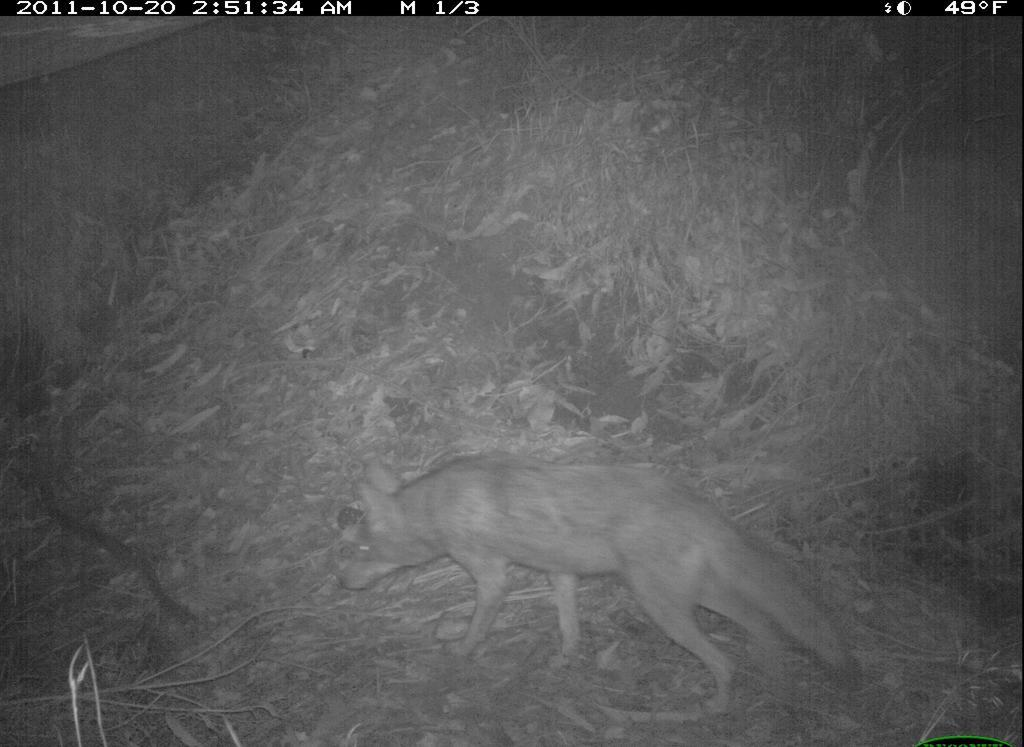coyote: (326, 439, 884, 732)
